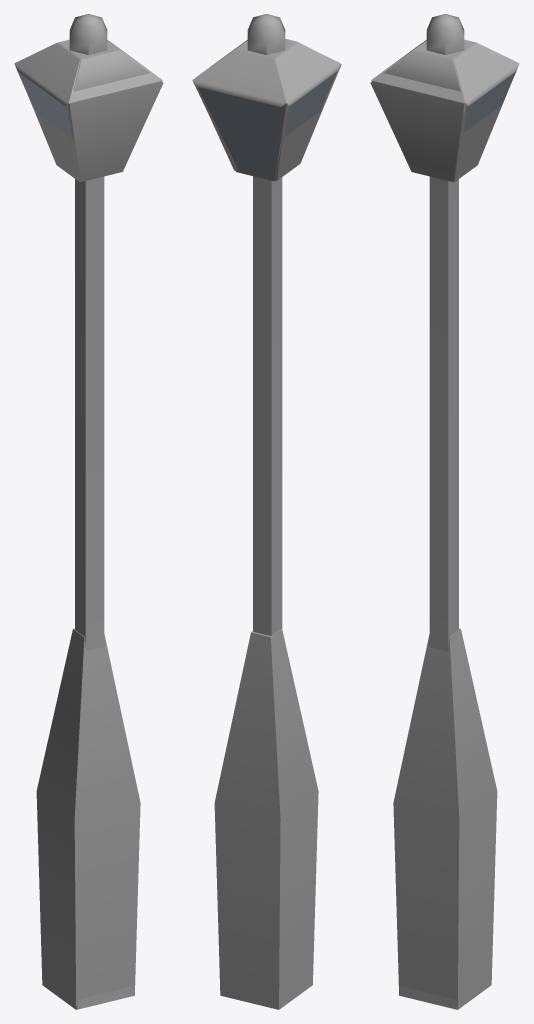
Rendered from P_lampost.fbx.
3 views of the same model, side by side, from view 1: azimuth 30°, elevation 25°; view 2: azimuth 150°, elevation 25°; view 3: azimuth 330°, elevation 25° (orthographic).
Parts seen in each view (by area): view 1: hp_lpost, mp_lpost, lp_lpost; view 2: hp_lpost, mp_lpost, lp_lpost; view 3: hp_lpost, mp_lpost, lp_lpost.
Part boxes in pixels (<box>): hp_lpost: <box>14,14,162,1009</box>; mp_lpost: <box>31,41,163,1009</box>; lp_lpost: <box>33,108,147,182</box>; hp_lpost: <box>192,14,340,1009</box>; mp_lpost: <box>223,39,341,635</box>; lp_lpost: <box>208,106,323,180</box>; hp_lpost: <box>371,14,519,1009</box>; mp_lpost: <box>370,41,474,1009</box>; lp_lpost: <box>415,90,508,639</box>.
Size of the model in its own units: 30 by 297 by 30.52.
